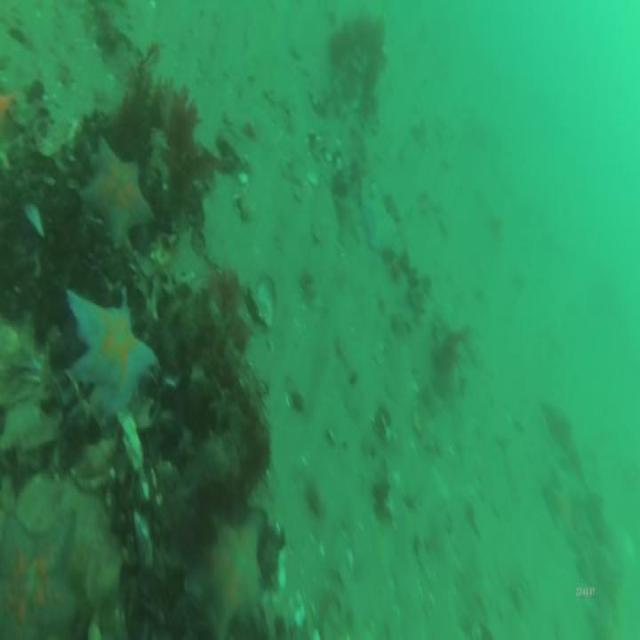starfish: (59, 275, 158, 431), (1, 496, 91, 640), (184, 499, 272, 640), (78, 133, 154, 253), (357, 172, 407, 267)
